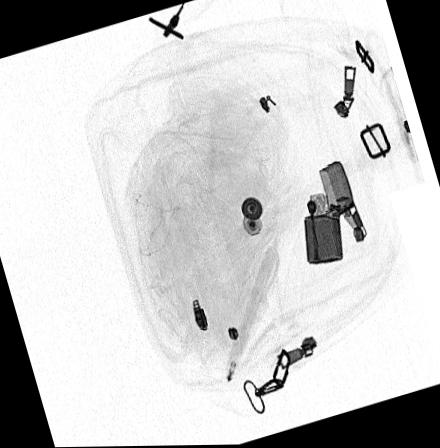Lighter: (303, 161, 354, 265)
